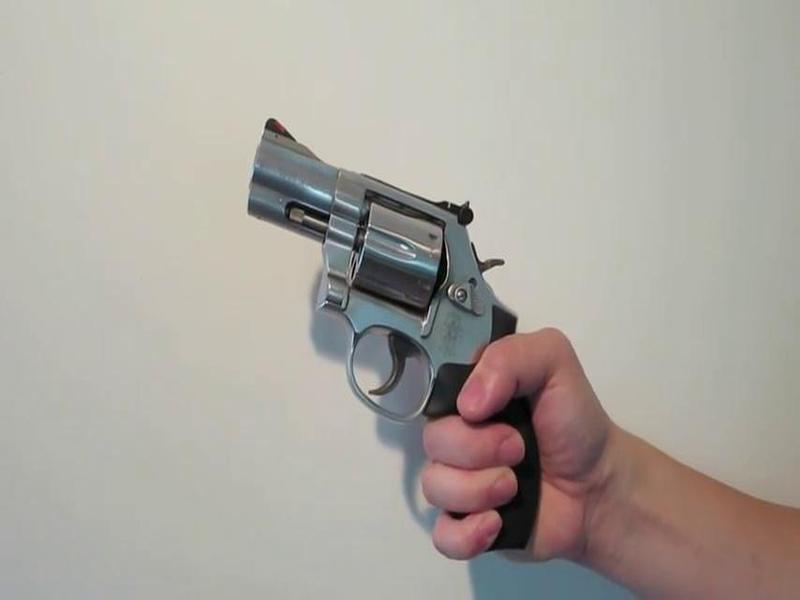Revolver: (191, 94, 564, 454)
